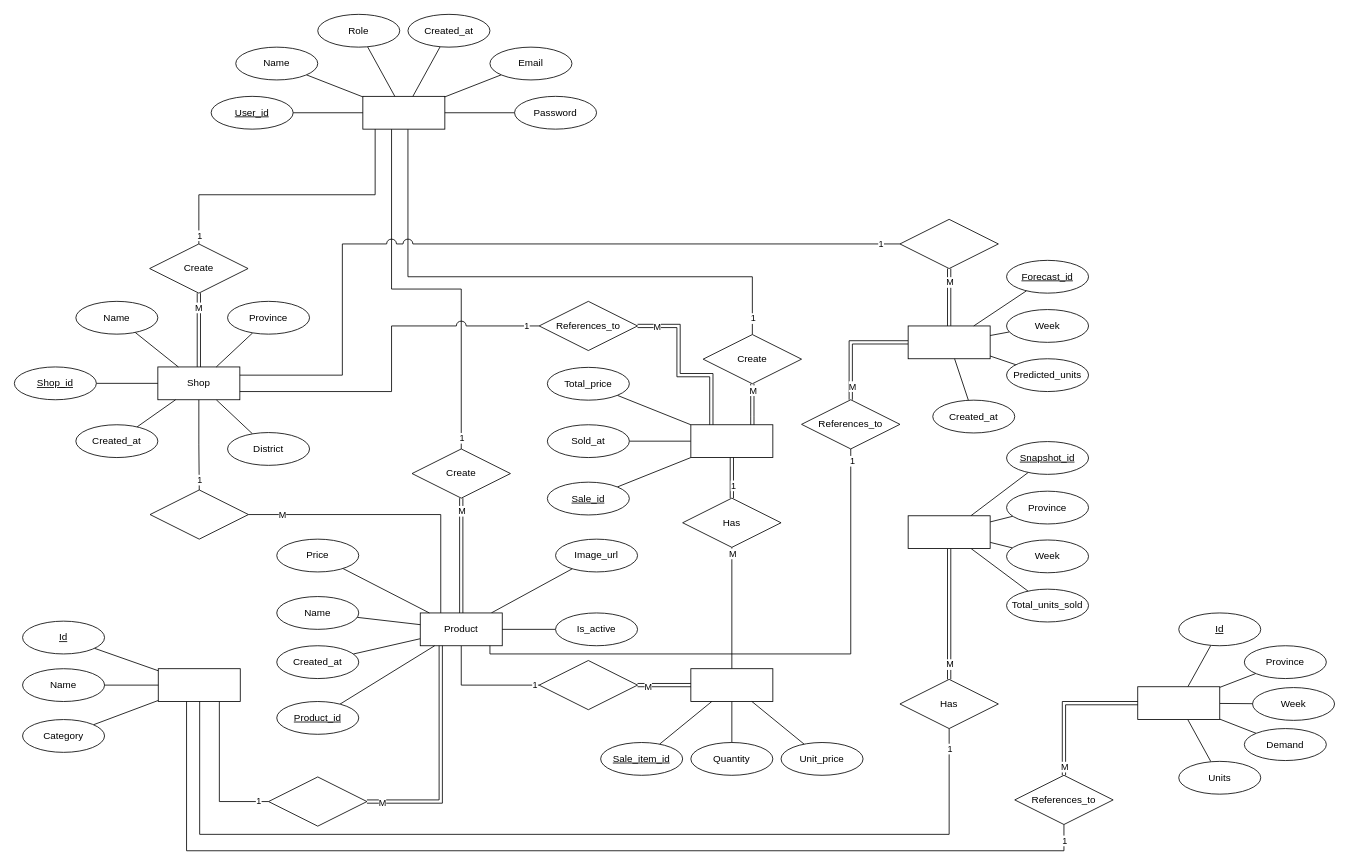
Some shapes in this 1349 by 866 pixel diagram are drawn without their labels. The shapes that lost their labels are listed below. From the top down, each one's box as (x1, y1, x2, y2) in pixels, then its label:
(362, 96, 445, 129): User
(899, 219, 998, 269): Belongs_to
(907, 325, 990, 359): Forecast
(690, 424, 773, 458): Sale
(149, 489, 248, 539): Belongs to
(907, 515, 990, 549): Province Sale Snapshot
(157, 668, 240, 702): Master Product
(538, 660, 638, 710): Appears_in
(690, 668, 773, 702): Sale item
(1137, 686, 1220, 720): Province Forecast
(268, 776, 367, 826): Assigned_to
